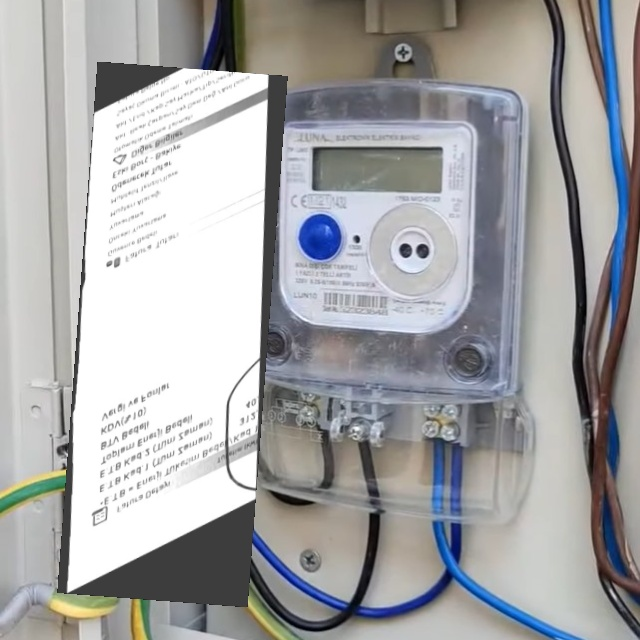electricity-bill: (56, 62, 288, 606)
